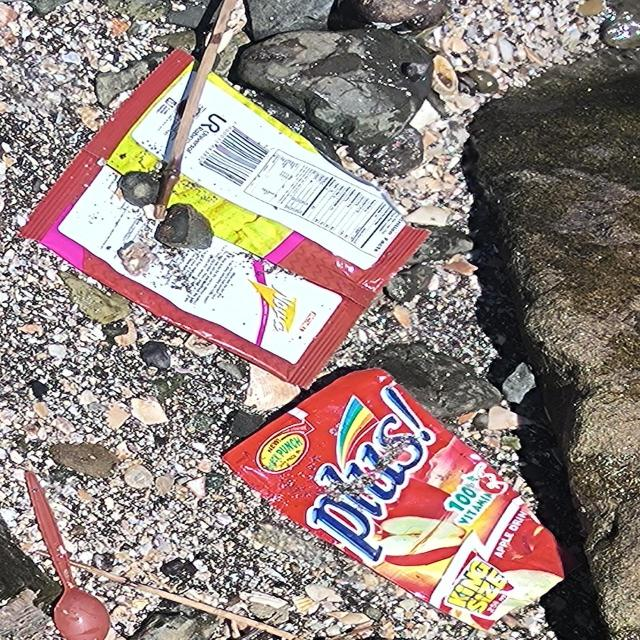plastic_waste: (18, 43, 434, 392), (224, 364, 573, 629), (23, 471, 111, 640)
